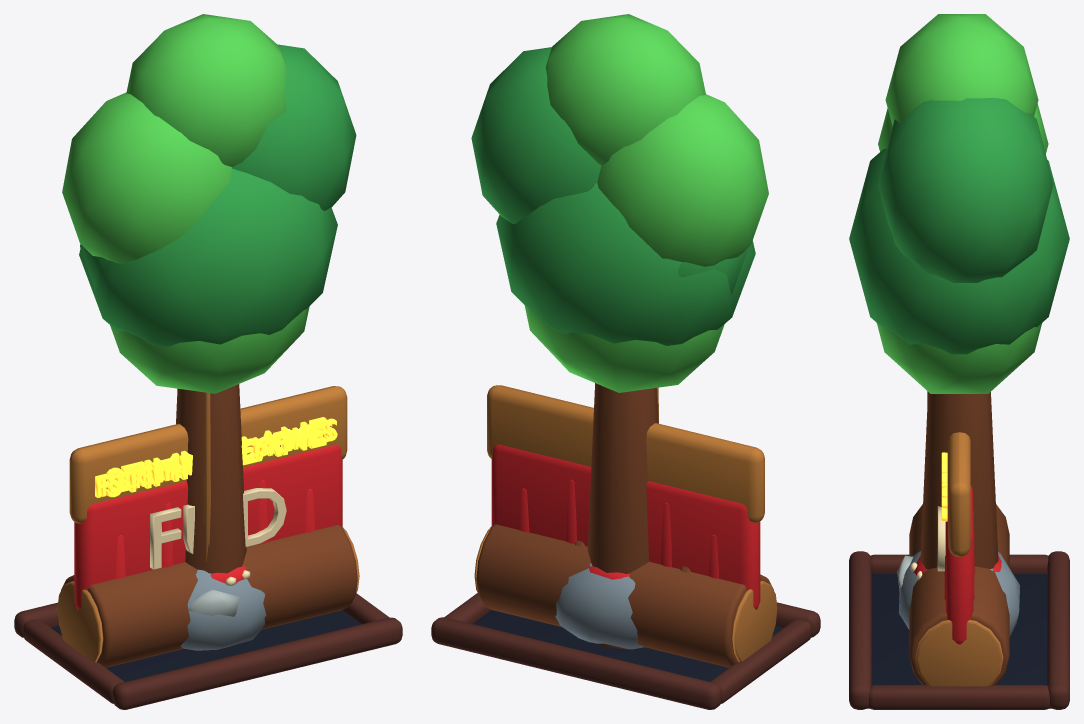
File: forest-kit.glb
3 renders of one model, left to right at view 1: azimuth 30°, elevation 25°; view 2: azimuth 150°, elevation 25°; view 3: azimuth 270°, elevation 25°, orthographic.
Parts seen in each view (by area): view 1: KIT_Tree_A, KIT_Log, KIT_Gap, KIT_FUD, KIT_Sign_Stimmy, KIT_Tree_B, KIT_Rock, KIT_Sign_Trenches, KIT_Candle, KIT_Sign_Memes, KIT_Sign_Coping; view 2: KIT_Tree_A, KIT_Log, KIT_Gap, KIT_FUD, KIT_Sign_Stimmy, KIT_Tree_B, KIT_Rock, KIT_Candle; view 3: KIT_Tree_A, KIT_Gap, KIT_Log, KIT_Tree_B, KIT_FUD, KIT_Sign_Stimmy, KIT_Rock.
Boxes of the visible parts, x1,y1,x2,y2 form: KIT_Tree_A: (62,14,356,647); KIT_Log: (57,525,359,667); KIT_Gap: (14,593,402,709); KIT_FUD: (74,445,342,609); KIT_Sign_Stimmy: (69,386,347,523); KIT_Tree_B: (80,244,309,393); KIT_Rock: (181,569,266,650); KIT_Sign_Trenches: (95,418,337,497); KIT_Candle: (115,480,314,578); KIT_Sign_Memes: (101,419,332,496); KIT_Sign_Coping: (107,426,323,492); KIT_Tree_A: (471,14,768,649); KIT_Log: (474,524,777,667); KIT_Gap: (431,593,820,709); KIT_FUD: (491,444,760,609); KIT_Sign_Stimmy: (487,385,764,523); KIT_Tree_B: (524,249,747,392); KIT_Rock: (555,563,643,649); KIT_Candle: (519,479,718,578); KIT_Tree_A: (849,14,1069,569); KIT_Gap: (849,551,1069,709); KIT_Log: (909,504,1009,686); KIT_Tree_B: (877,323,1041,393); KIT_FUD: (937,485,973,644); KIT_Sign_Stimmy: (941,432,970,557); KIT_Rock: (897,551,1020,637).
Size of the model in its own units: 2.65 by 5.55 by 1.76.
